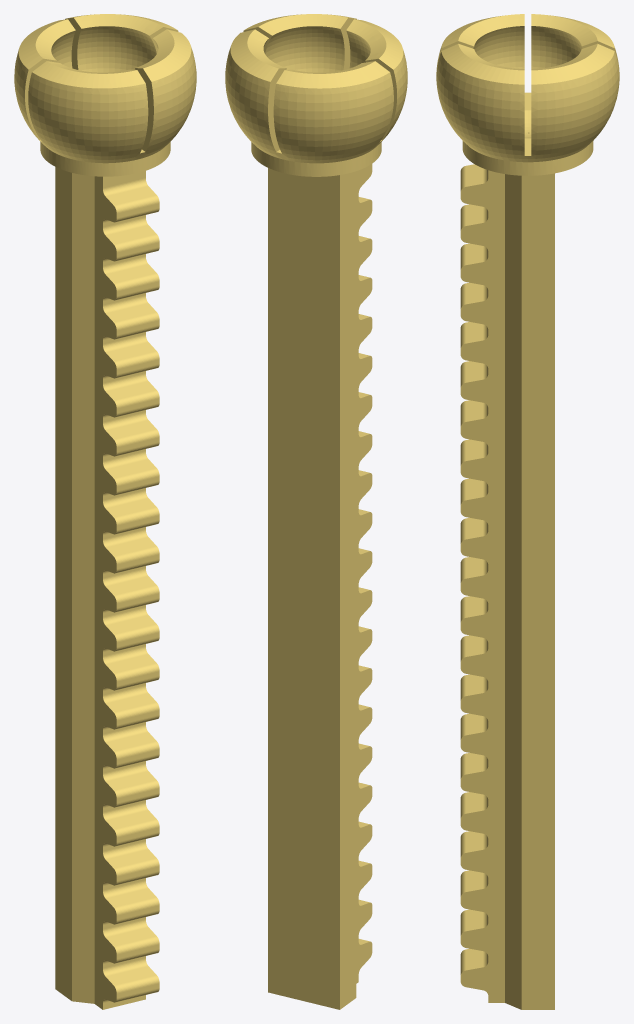
The model's file is rack.glb.
3 renders of one model, left to right at view 1: azimuth 30°, elevation 25°; view 2: azimuth 150°, elevation 25°; view 3: azimuth 270°, elevation 25°, orthographic.
Visible parts, largest first — view 1: rack; view 2: rack; view 3: rack.
Boxes of the visible parts, left/top/right/bottom form: rack: left=14, top=14, right=196, bottom=1009; rack: left=225, top=14, right=407, bottom=1009; rack: left=436, top=14, right=619, bottom=1009.
Bounding box in the file's own units: 0.014 × 0.0802 × 0.014.
